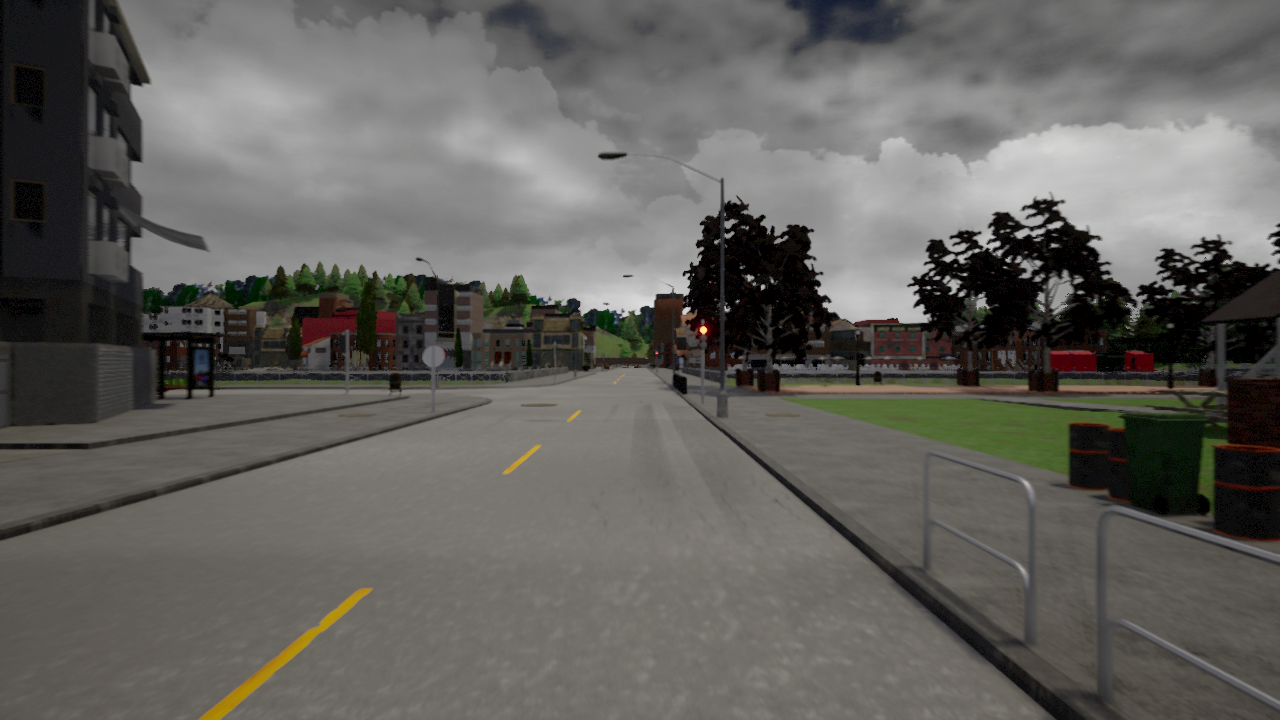red: (699, 325, 708, 350)
